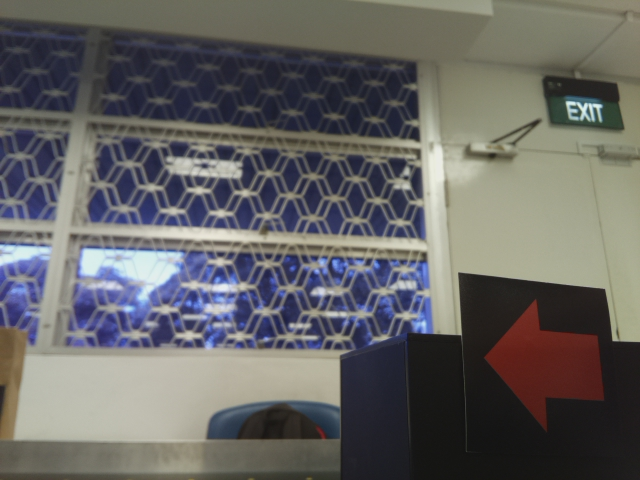left: (474, 285, 610, 434)
